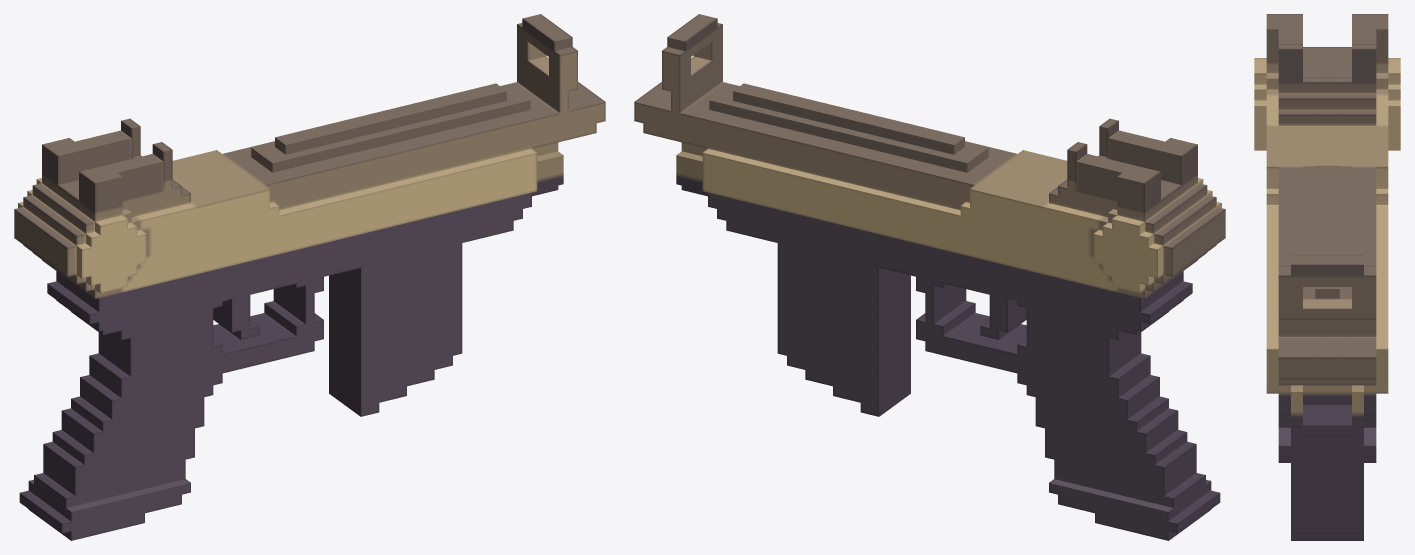
The model's file is Pistol.FBX.
3 views of the same model, side by side, from view 1: azimuth 30°, elevation 25°; view 2: azimuth 150°, elevation 25°; view 3: azimuth 270°, elevation 25° (orthographic). The views are drawn at different scales.
Parts seen in each view (by area): view 1: Plane001; view 2: Plane001; view 3: Plane001.
Part boxes in pixels (left/top/right/bottom): Plane001: left=14, top=14, right=605, bottom=540; Plane001: left=634, top=14, right=1225, bottom=540; Plane001: left=1254, top=14, right=1400, bottom=540.
Bounding box in the file's own units: 18.44 × 12.19 × 3.75.
1 material, 1 textured.
